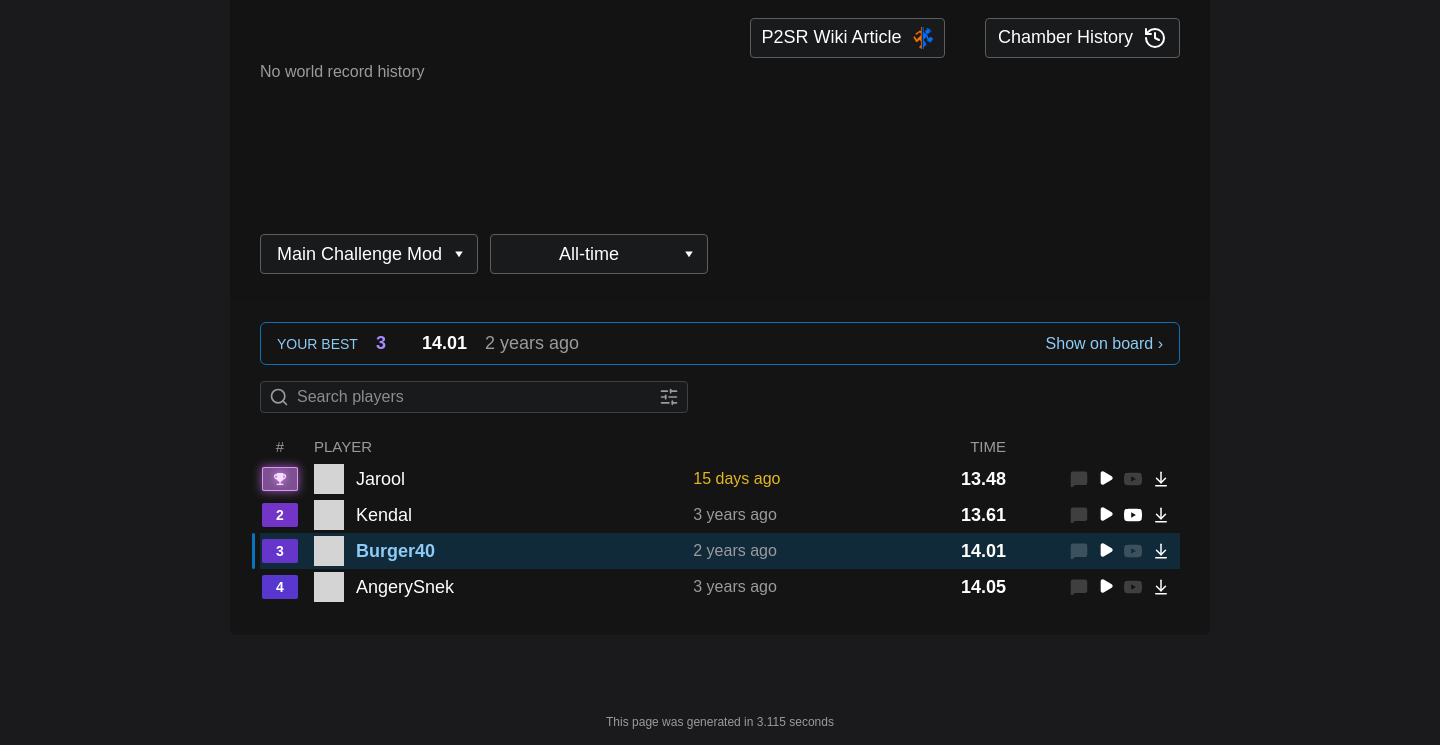
it: Map page › pins the signed-in player's best and opens it on the board
(page scrolled)
Click the button "Your best 3 14.01 2 years ago Show on board ›" at (317,344), box x1=260 y1=322 x2=1180 y2=365
(page scrolled)
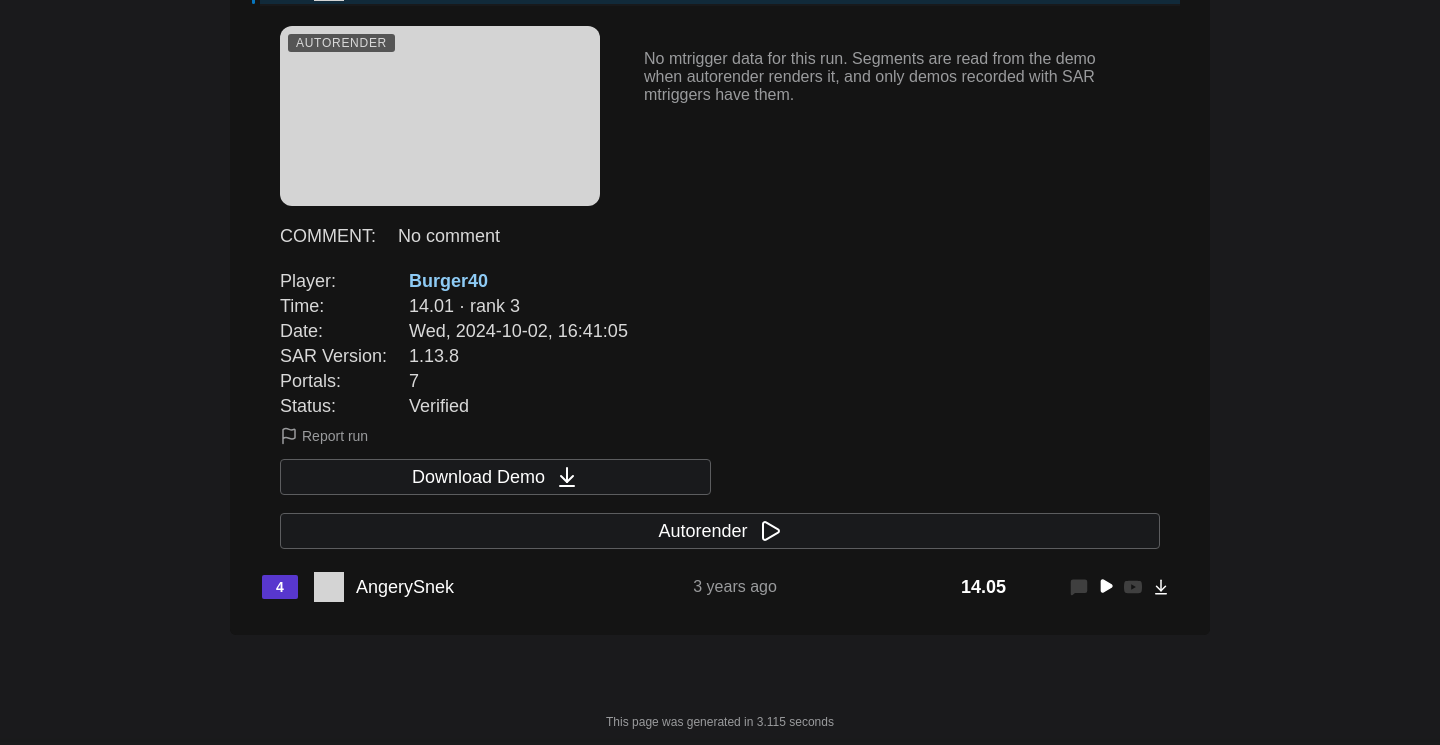
Expected: the text "SAR Version:" is shown, x1=280 y1=346 x2=387 y2=367
